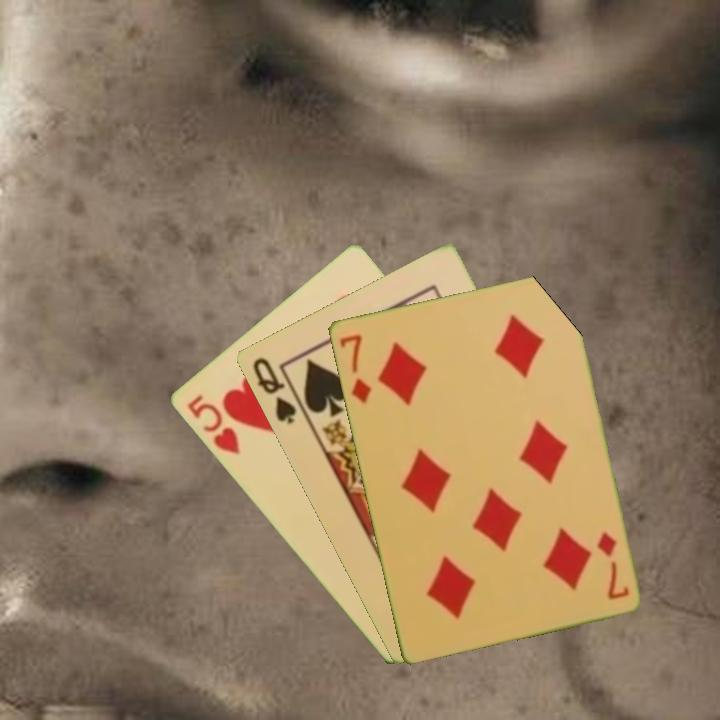5h: (182, 391, 242, 458)
7d: (335, 330, 374, 406), (592, 528, 632, 602)
Qs: (248, 353, 299, 427)
